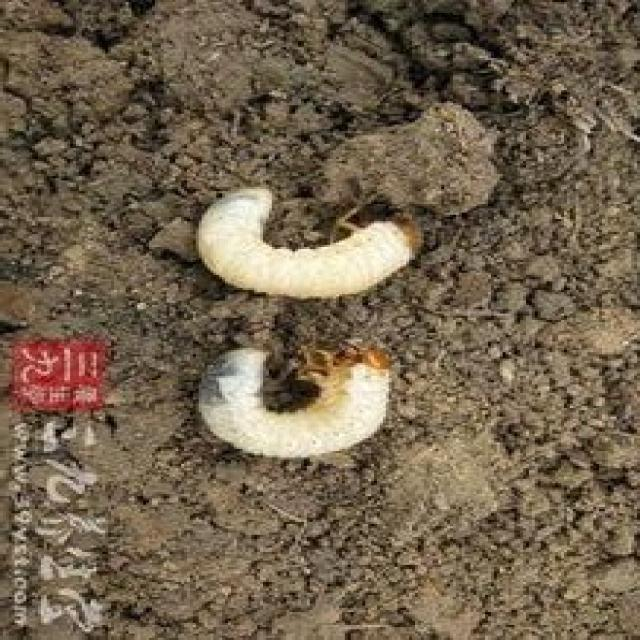grub: (193, 186, 418, 319), (197, 336, 395, 465)
